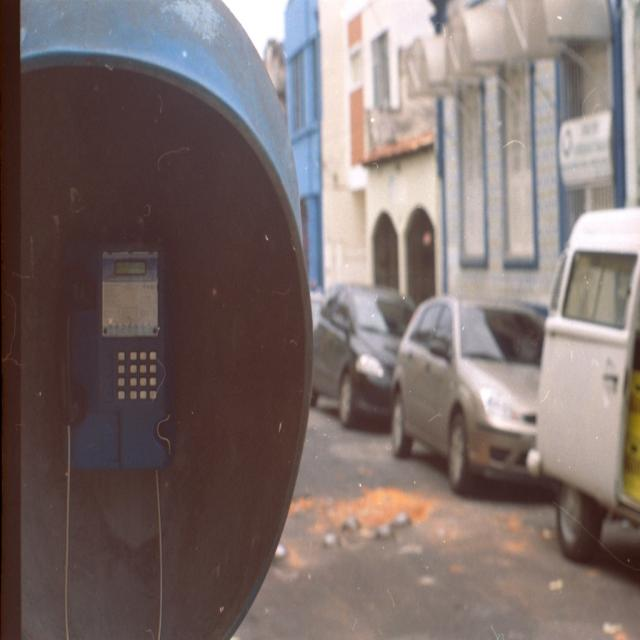car: (378, 285, 591, 507)
